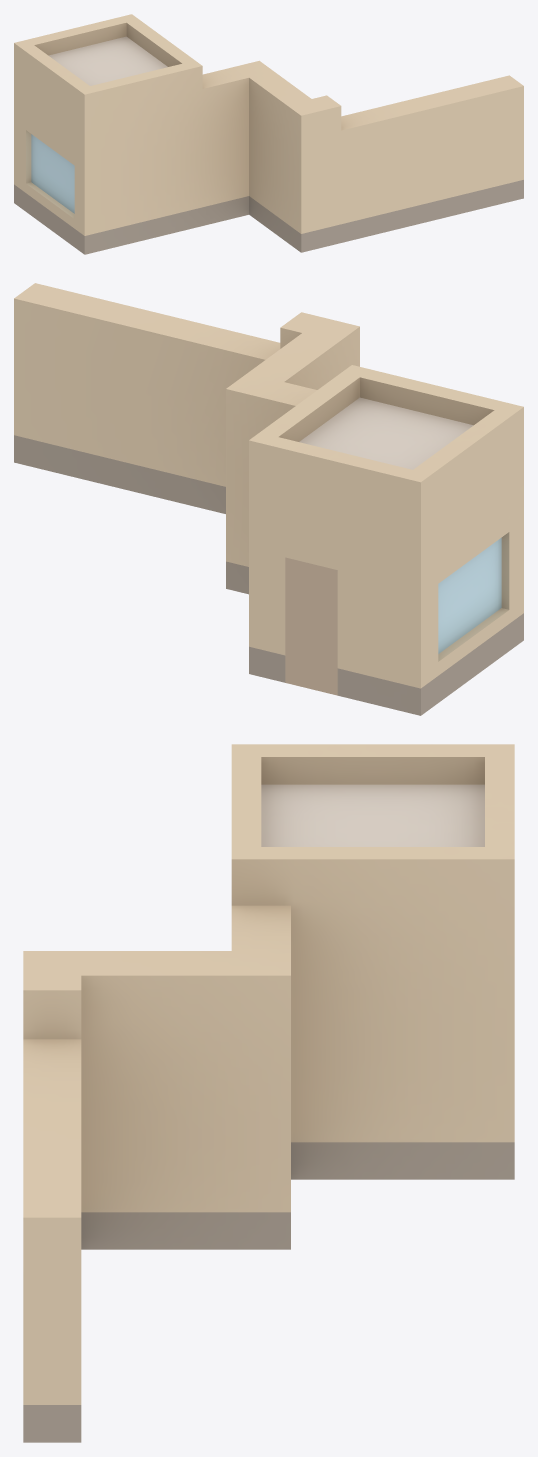
Rendered from momra4.glb.
3 renders of one model, top to bottom at view 1: azimuth 30°, elevation 25°; view 2: azimuth 150°, elevation 25°; view 3: azimuth 270°, elevation 25°, orthographic. The views are drawn at different scales.
Visible parts, largest first — view 1: momra4; view 2: momra4; view 3: momra4.
Boxes of the visible parts, x1,y1,x2,y2 form: momra4: [14, 14, 523, 254]; momra4: [14, 283, 523, 715]; momra4: [23, 744, 514, 1442].
Bounding box in the file's own units: 10.83 × 4.28 × 5.95.
1 material, 1 textured.
